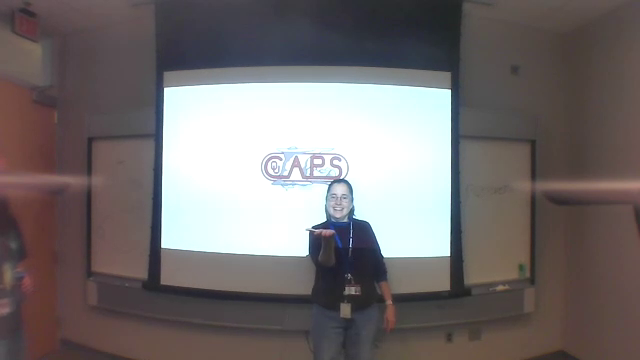land: (302, 221, 343, 245)
